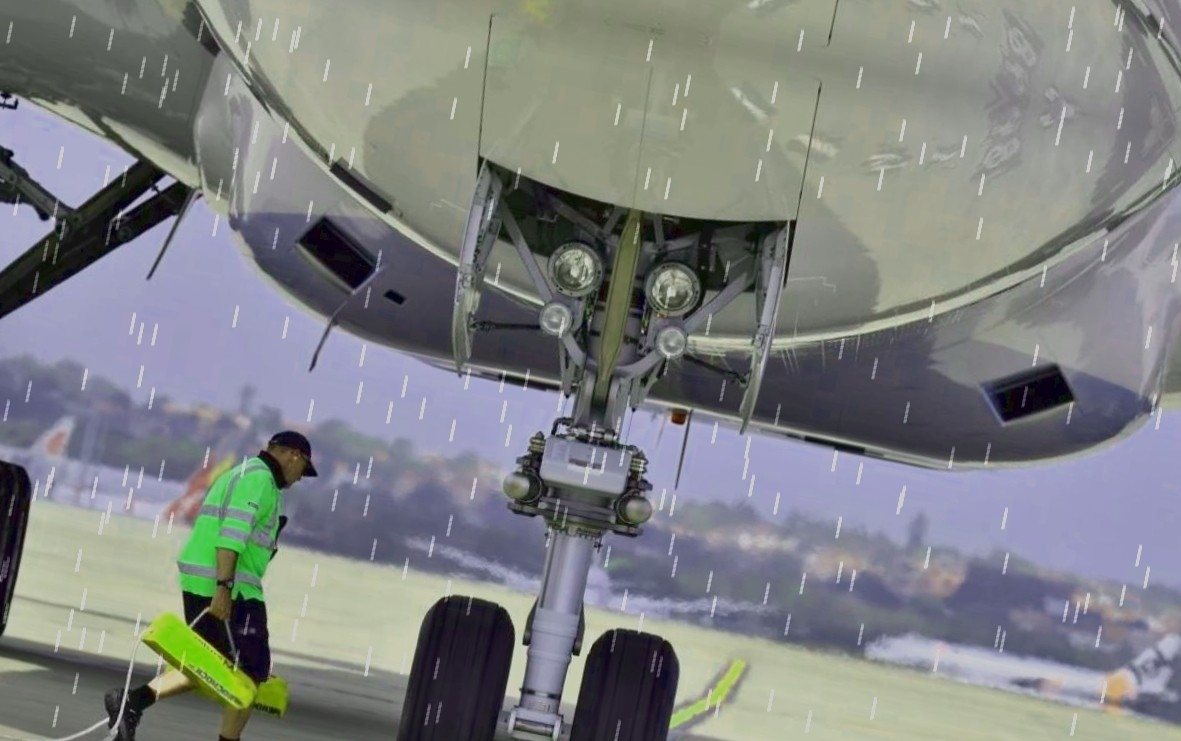chock: (127, 606, 275, 715), (161, 652, 294, 715)
wheel: (380, 587, 525, 741), (549, 621, 692, 741), (0, 458, 40, 648)
